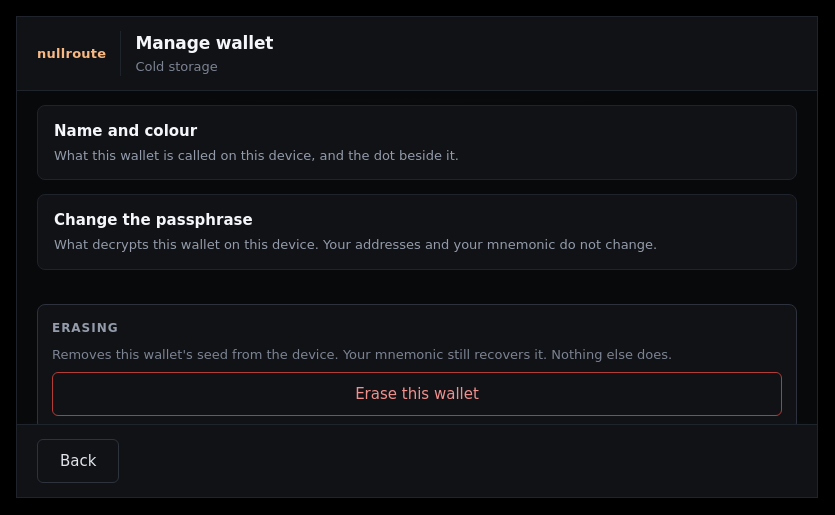
Scenario: ManageWalletScreen passphrase change › confirms-the-change-rather-than-returning-silently
This screenshot has width=835, height=515.
Step 1. Click the button with test id "manage-choose-passphrase" → {"x": 153, "y": 220}, box [37,194,797,270]
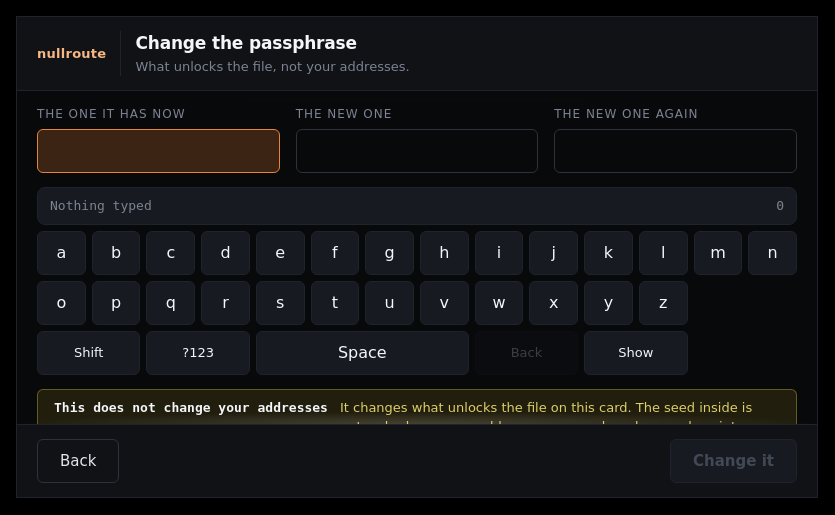
Step 2. Type "the old one" into the password field with test id "manage-passphrase-old" → {"x": 158, "y": 151}, box [37,129,280,173]
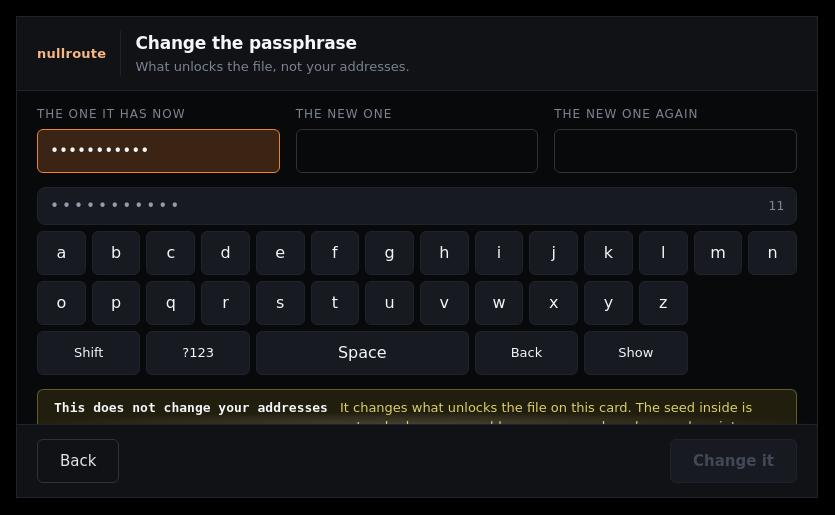
Step 3. Type "a new one" into the password field with test id "manage-passphrase-new" → {"x": 417, "y": 151}, box [296,129,538,173]
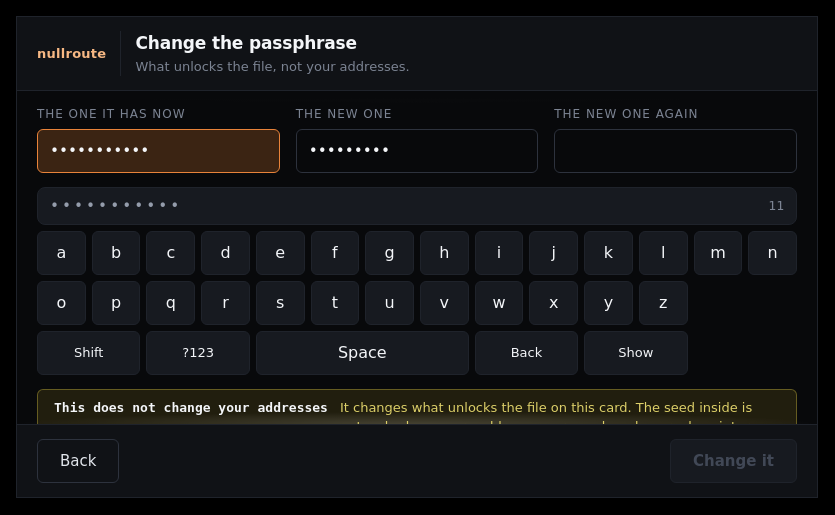
Step 4. Type "a new one" into the password field with test id "manage-passphrase-confirm" → {"x": 676, "y": 151}, box [554,129,797,173]
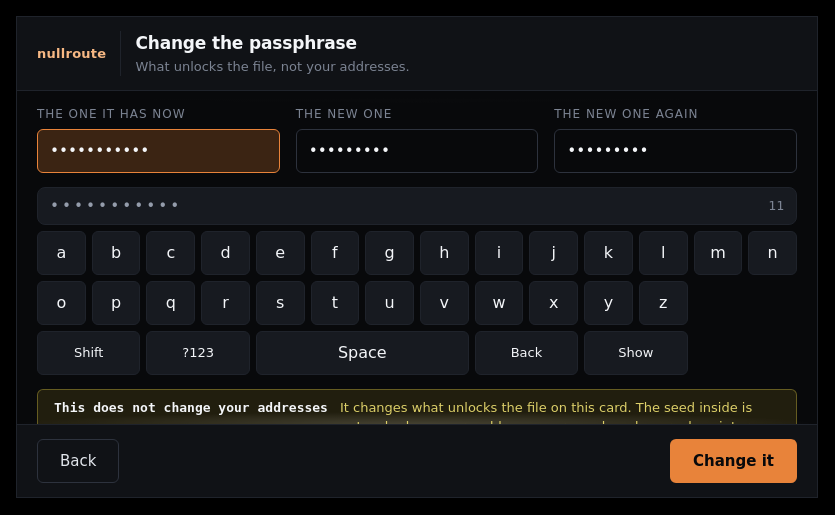
Step 5. Click the button with test id "manage-passphrase-submit" → {"x": 734, "y": 461}, box [670,439,797,483]
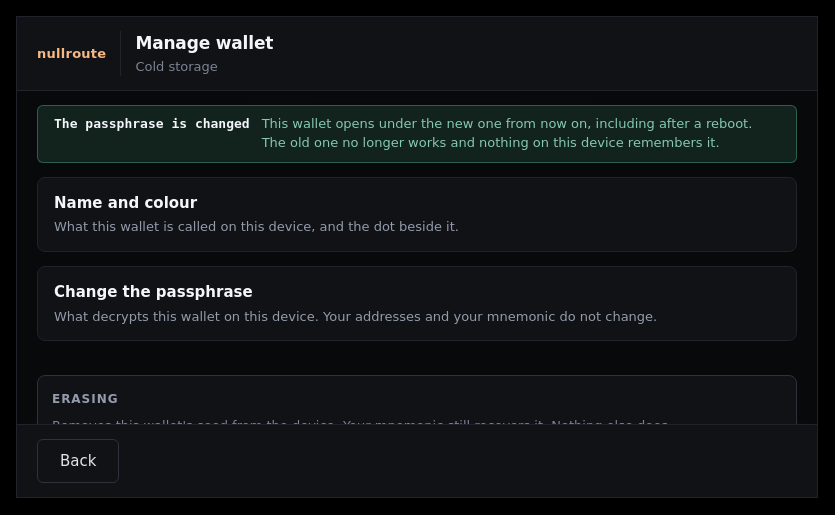
Expected: the element with test id "manage-passphrase-done" is shown, [37,105,797,163]
Expected: the element with test id "manage-passphrase-done" shows "The old one no longer works", [262,116,752,150]
